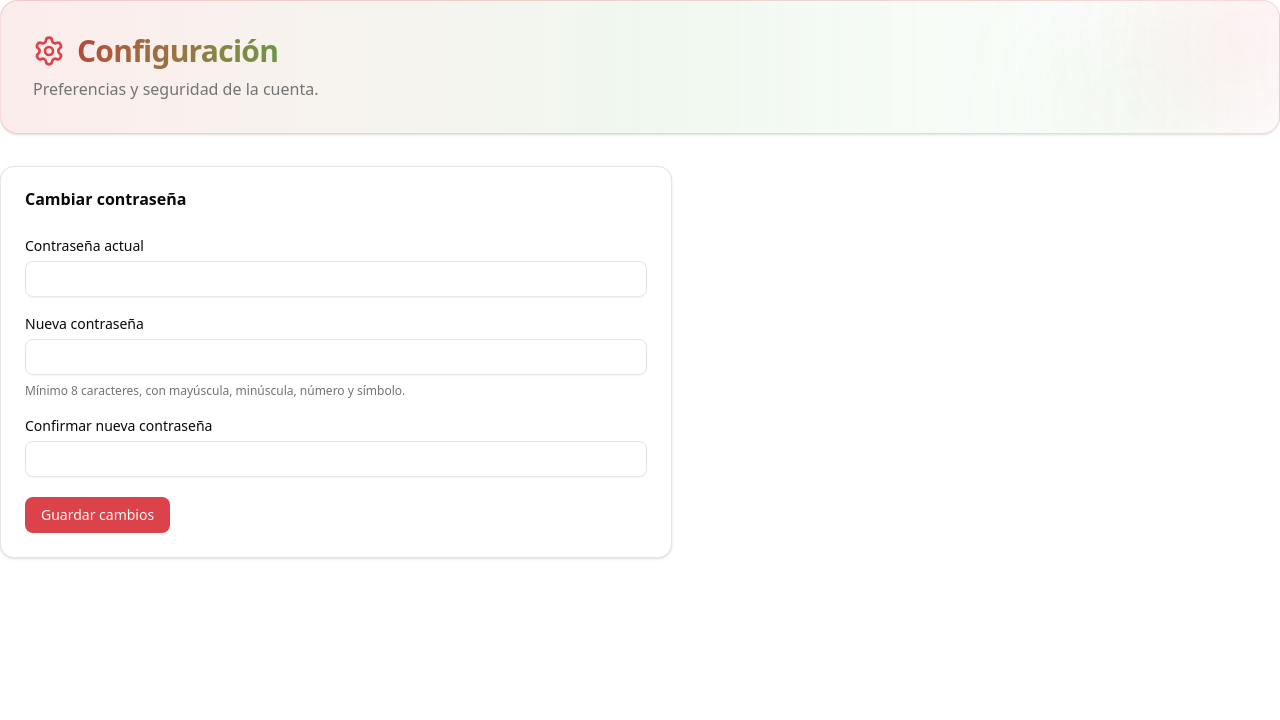
Scenario: Configuracion - Cambio de contraseña › debe mostrar errores cuando los campos están vacíos
The width and height of the screenshot is (1280, 720).
Click the button "Guardar cambios". click: (98, 515)
box: [25,497,170,533]
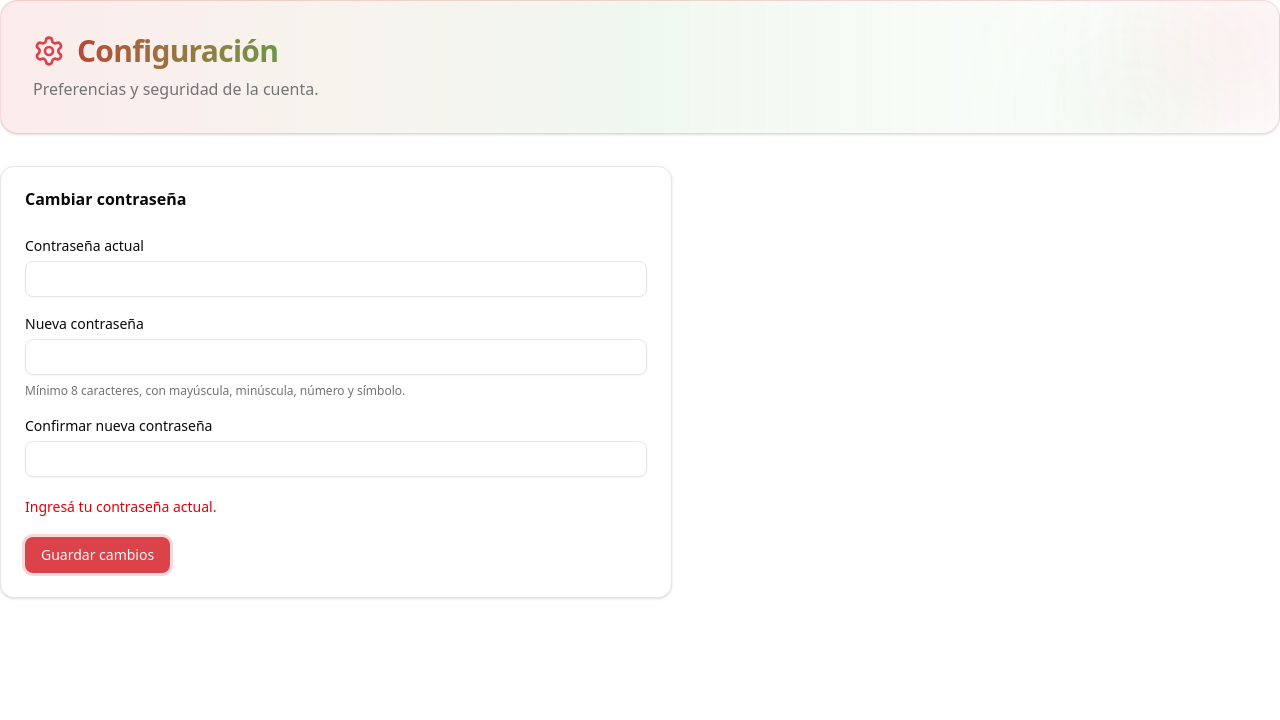
Check: the text "Ingresá tu contraseña actual." is shown, box [25,497,216,516]
